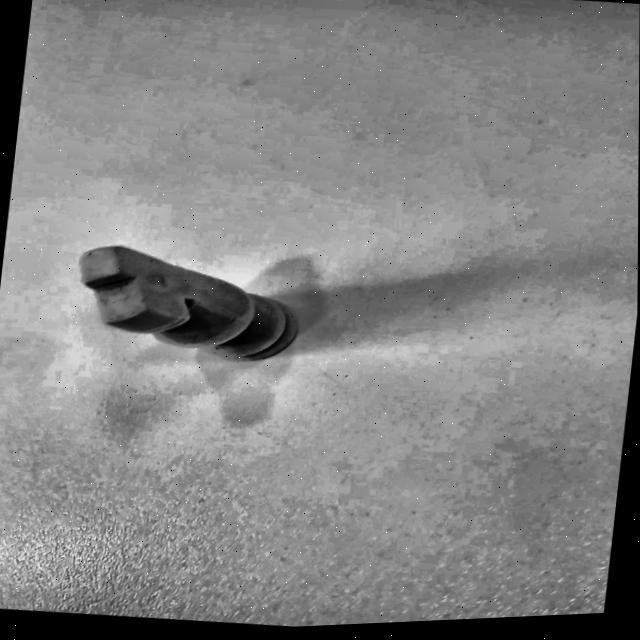white-knight: (55, 215, 344, 404)
